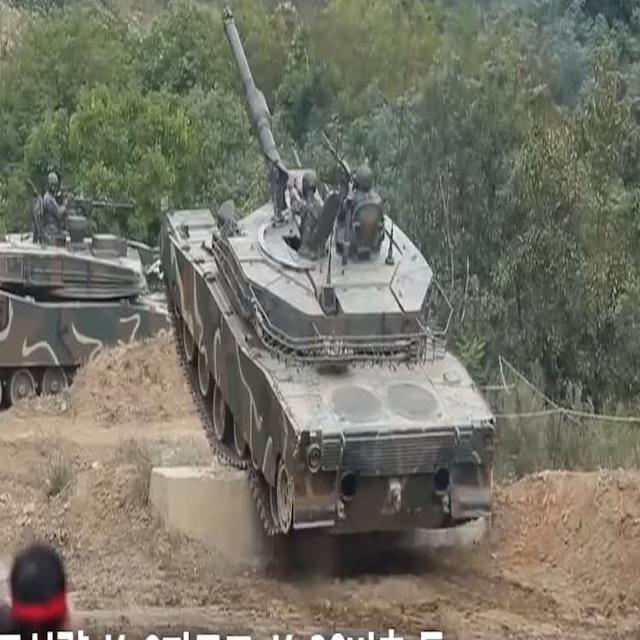korea tank: (159, 1, 497, 543)
